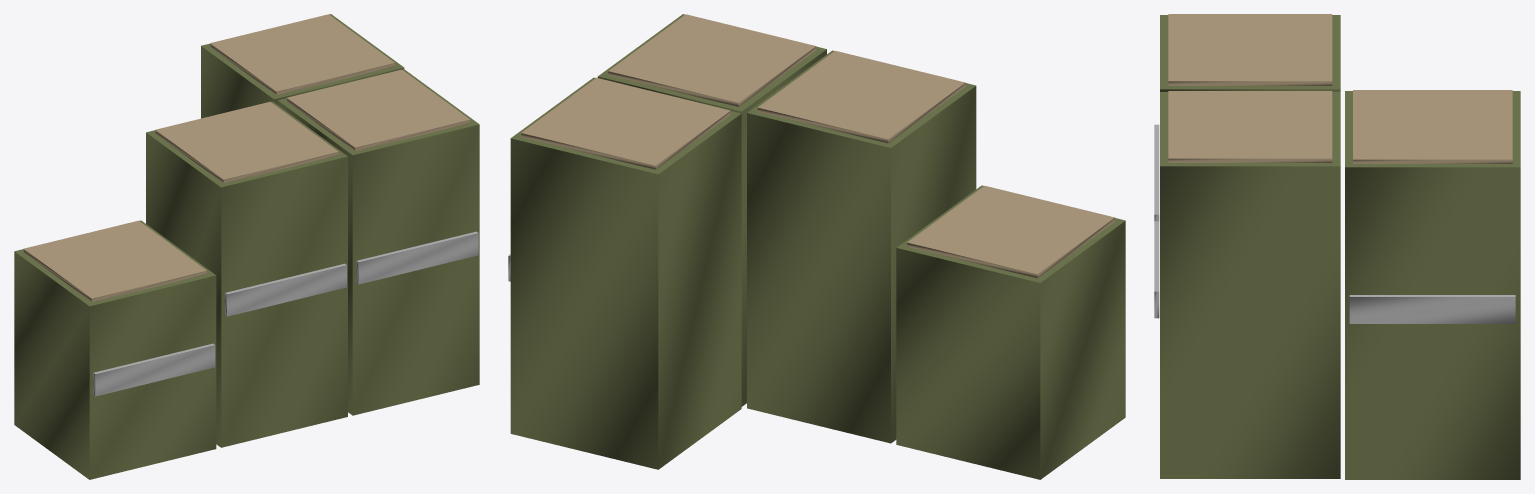
The model's file is SM_HescoRemateEspejo_v2_Escalonado_e0_Sano_LOD1.fbx.
The picture shows the model from 3 angles, left to right: view 1: azimuth 30°, elevation 25°; view 2: azimuth 150°, elevation 25°; view 3: azimuth 270°, elevation 25°; orthographic projection. The views are drawn at different scales.
Visible parts, largest first — view 1: SM_hesco_piezas_v28_LOD1; view 2: SM_hesco_piezas_v28_LOD1; view 3: SM_hesco_piezas_v28_LOD1.
Part boxes in pixels (x1=…): SM_hesco_piezas_v28_LOD1: x1=14, y1=14, x2=479, y2=479; SM_hesco_piezas_v28_LOD1: x1=508, y1=14, x2=1125, y2=479; SM_hesco_piezas_v28_LOD1: x1=1154, y1=14, x2=1520, y2=479.
Size of the model in its own units: 3.34 by 2.13 by 2.23.
